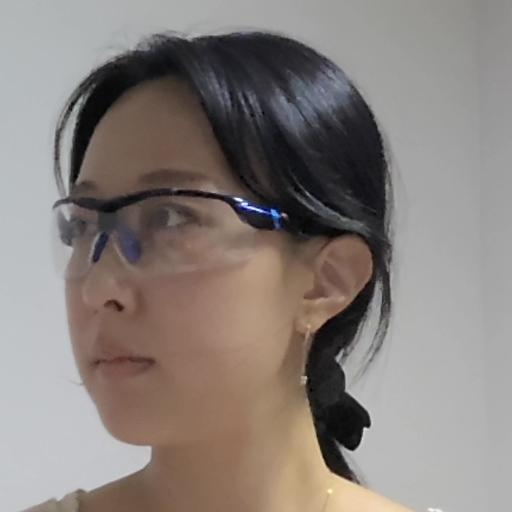glasses: (42, 32, 396, 471)
